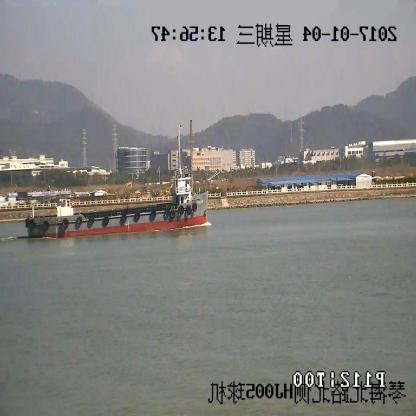Bulk Carrier: (26, 172, 209, 241)
